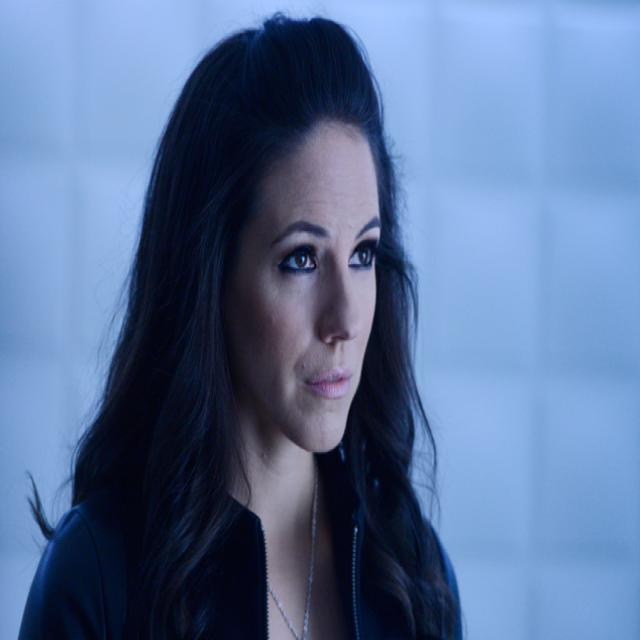mobile_phonerotation: (18, 10, 468, 637)
